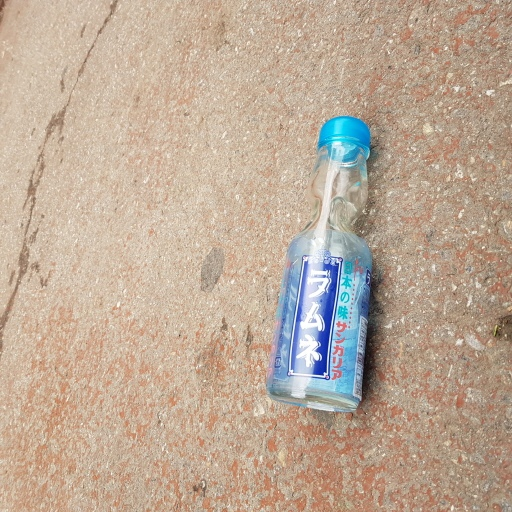Glass_4: (262, 117, 387, 426)
